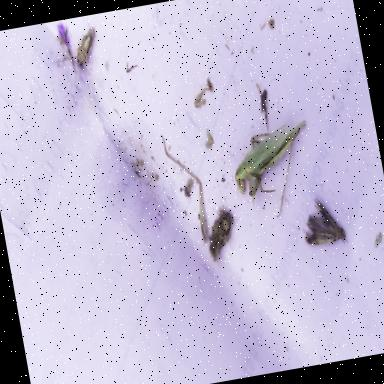pbw: (297, 192, 349, 250), (68, 24, 102, 68)
